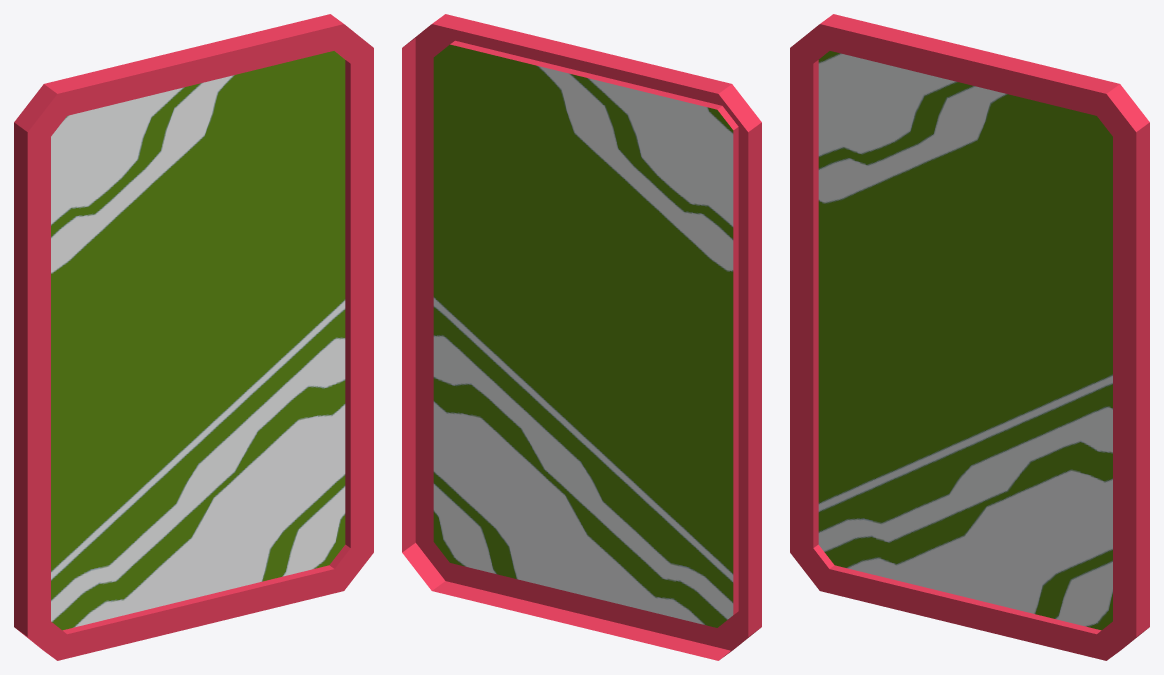
File: CbpBillboard C.fbx
3 views of the same model, side by side, from view 1: azimuth 30°, elevation 25°; view 2: azimuth 150°, elevation 25°; view 3: azimuth 330°, elevation 25° (orthographic).
Visible parts, largest first — view 1: CbpBillboard C; view 2: CbpBillboard C; view 3: CbpBillboard C.
Part boxes in pixels (x1=…): CbpBillboard C: x1=14, y1=14, x2=373, y2=660; CbpBillboard C: x1=402, y1=14, x2=761, y2=660; CbpBillboard C: x1=790, y1=14, x2=1149, y2=660.
Size of the model in its own units: 8.01 by 12.54 by 0.548.
